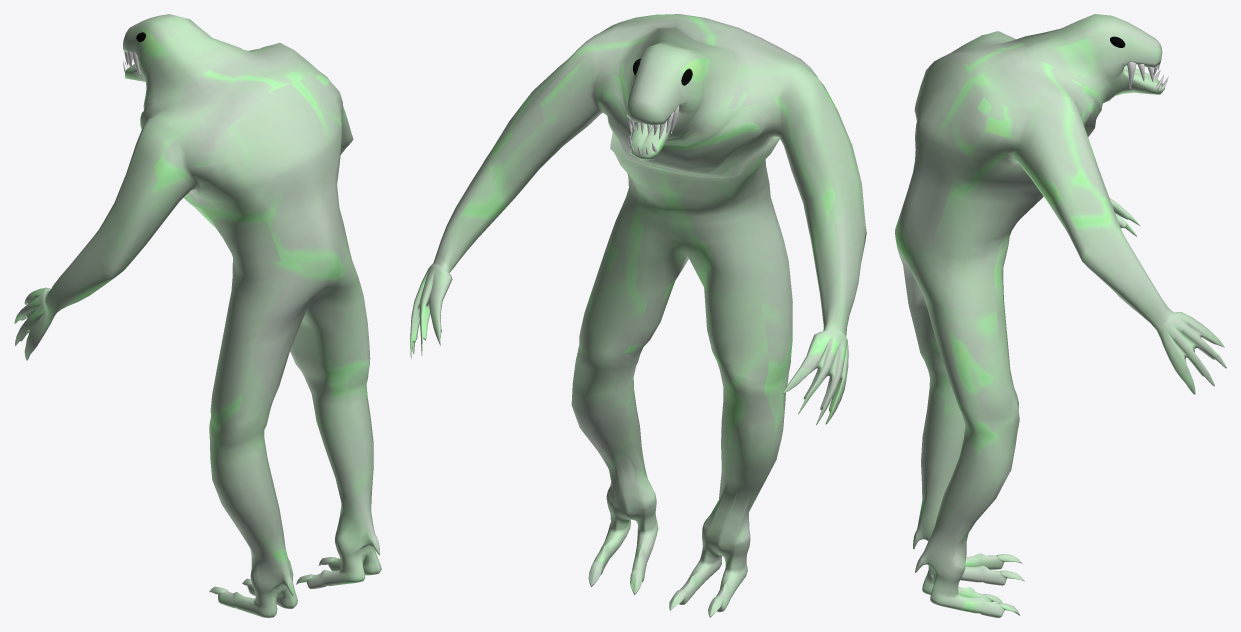
File: Berserkeraranar.0058.obj
3 views of the same model, side by side, from view 1: azimuth 30°, elevation 25°; view 2: azimuth 150°, elevation 25°; view 3: azimuth 270°, elevation 25° (orthographic). The views are drawn at different scales.
Visible parts, largest first — view 1: polySurface27; view 2: polySurface27; view 3: polySurface27.
Boxes of the visible parts, x1,y1,x2,y2 form: polySurface27: [14, 14, 381, 617]; polySurface27: [410, 14, 866, 617]; polySurface27: [895, 14, 1226, 617].
Bounding box in the file's own units: 14.94 × 23 × 12.58.
1 material, 1 textured.
